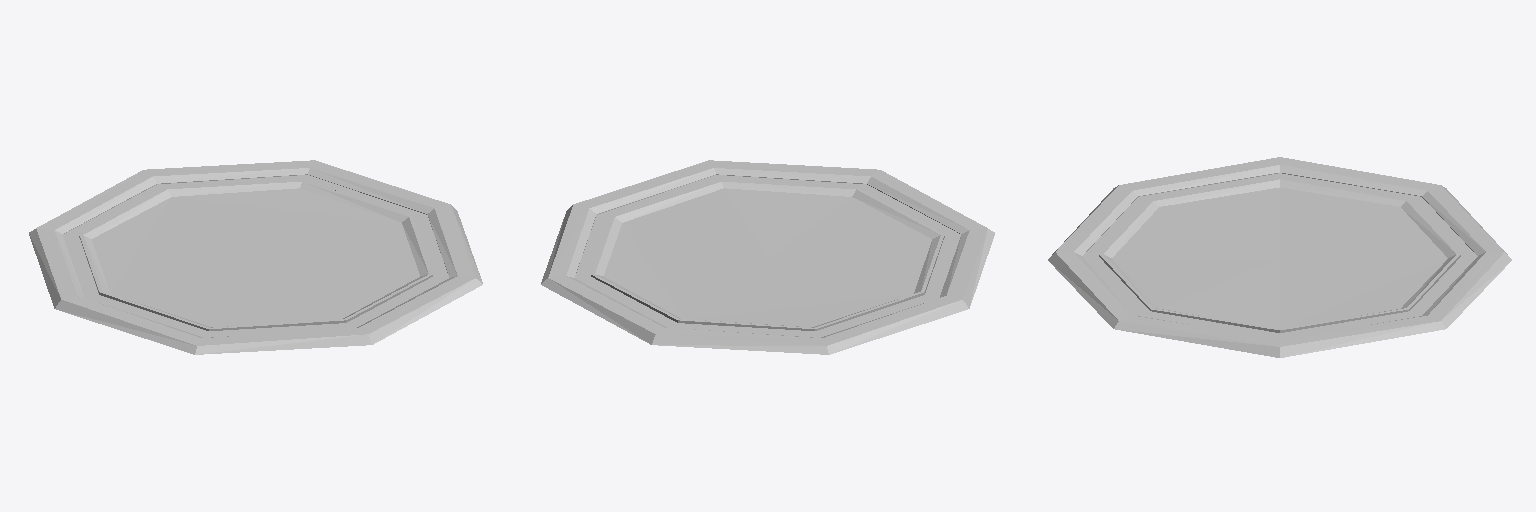
Rendered from PictureFram_Circle01.obj.
The picture shows the model from 3 angles: view 1: azimuth 30°, elevation 25°; view 2: azimuth 150°, elevation 25°; view 3: azimuth 270°, elevation 25°; orthographic projection.
Visible parts, largest first — view 1: Mesh_Picture_Frame_Circle01; view 2: Mesh_Picture_Frame_Circle01; view 3: Mesh_Picture_Frame_Circle01.
Part boxes in pixels (x1,y1,x2,y2): Mesh_Picture_Frame_Circle01: (29, 160, 482, 354); Mesh_Picture_Frame_Circle01: (541, 160, 994, 354); Mesh_Picture_Frame_Circle01: (1048, 157, 1511, 357).
Bounding box in the file's own units: 2.43 × 0.0463 × 2.43.